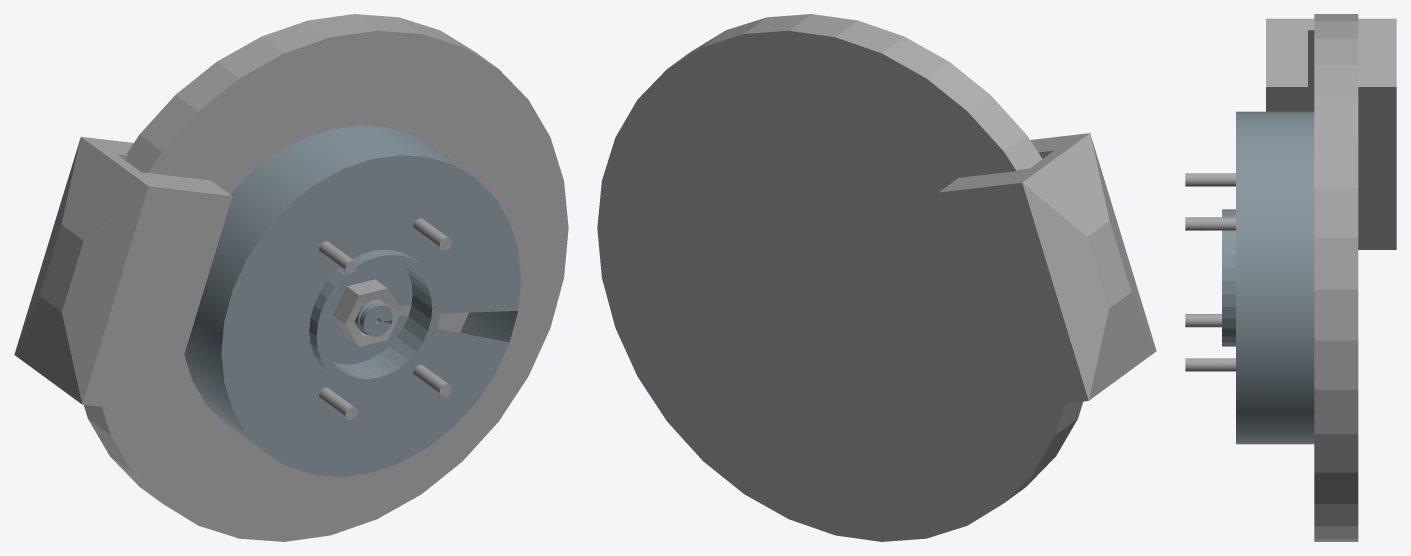
File: WheelBearing.fbx
3 views of the same model, side by side, from view 1: azimuth 30°, elevation 25°; view 2: azimuth 150°, elevation 25°; view 3: azimuth 270°, elevation 25° (orthographic). The views are drawn at different scales.
Visible parts, largest first — view 1: pCylinder1, pCube1, pPipe1; view 2: pCylinder1, pCube1; view 3: pCylinder1, pCube1, pCylinder2, pCylinder3, pCylinder4, pCylinder5.
Boxes of the visible parts, x1,y1,x2,y2 form: pCylinder1: [83, 14, 568, 541]; pCube1: [14, 137, 232, 414]; pPipe1: [332, 279, 401, 346]; pCylinder1: [597, 14, 1082, 541]; pCube1: [938, 133, 1156, 410]; pCylinder1: [1222, 14, 1358, 541]; pCube1: [1266, 18, 1396, 249]; pCylinder2: [1185, 173, 1235, 186]; pCylinder3: [1185, 217, 1235, 230]; pCylinder4: [1185, 358, 1235, 371]; pCylinder5: [1185, 314, 1221, 327].
Size of the model in its own units: 5.71 by 5.32 by 2.13.
